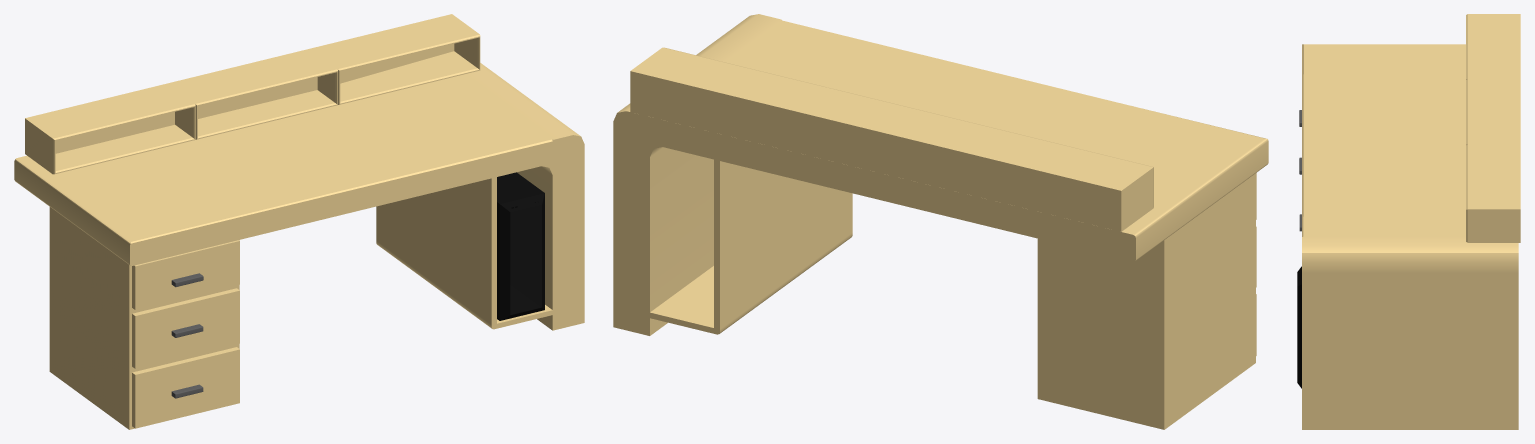
Rendered from Desk.fbx.
3 renders of one model, left to right at view 1: azimuth 30°, elevation 25°; view 2: azimuth 150°, elevation 25°; view 3: azimuth 270°, elevation 25°, orthographic. The views are drawn at different scales.
Visible parts, largest first — view 1: desk; view 2: desk; view 3: desk.
Boxes of the visible parts, box(x1,y1,x2,y2) form: desk: box(14, 14, 584, 429); desk: box(613, 14, 1268, 429); desk: box(1297, 14, 1520, 429).
Bounding box in the file's own units: 159 × 76.81 × 72.34.
